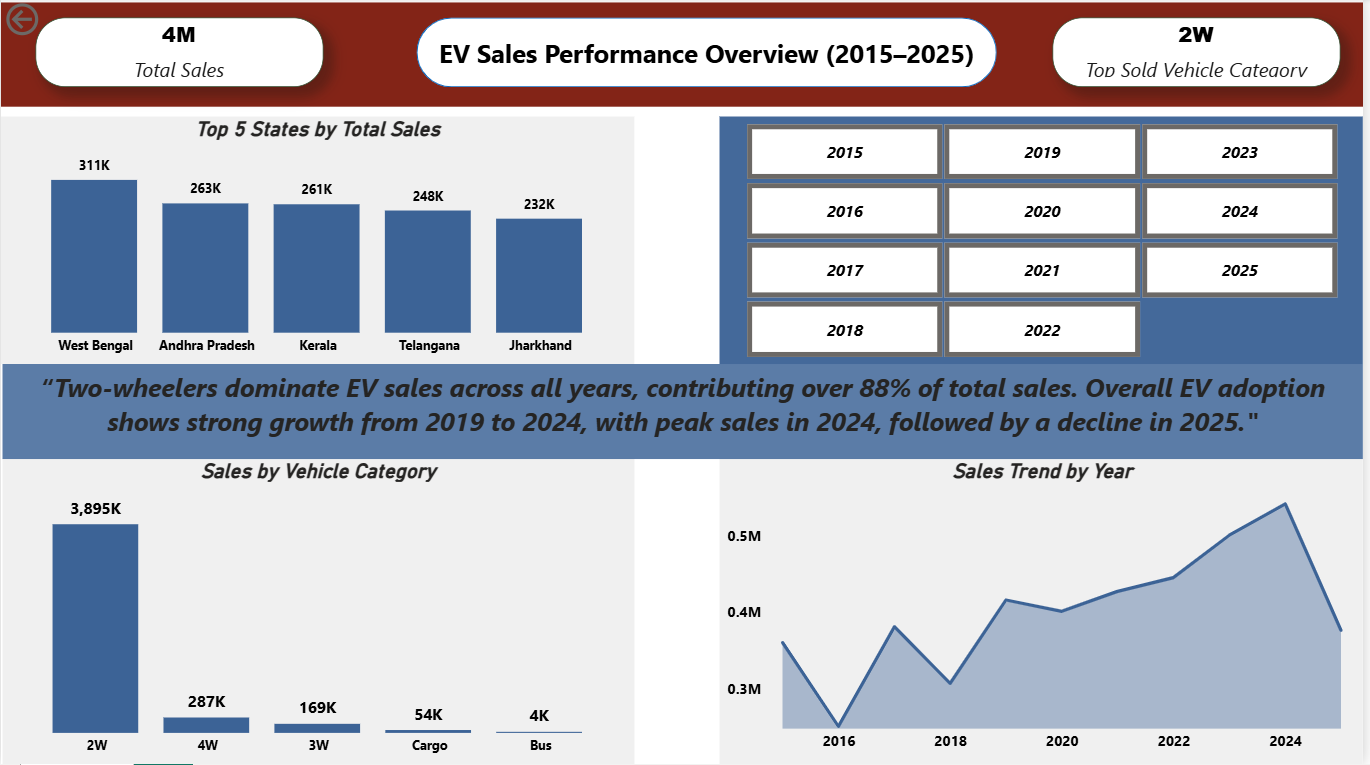

The dashboard page shown, as its layout file describes it:
{"tool":"powerbi","page":{"name":"Page 1","canvas":[1280,720],"ordinal":0},"visuals":[{"type":"actionButton","box":[0,0,100,40],"z":0},{"type":"card","fields":{"Values":["Sheet1.Total Sales"]},"box":[32.8,18.8,270.4,65.6],"z":1000},{"type":"shape","box":[390.7,18.8,545.5,65.6],"z":2000},{"type":"columnChart","title":"Sales by Vehicle Category","fields":{"Y":["Sheet1.Total Sales"],"Category":["Sheet1.vehicle_category"]},"box":[1.6,432.9,593.9,287.6],"z":3000},{"type":"card","fields":{"Values":["ev_sales_data.Top Sold Vehicle Category"]},"box":[987.8,18.8,270.4,65.6],"z":4000},{"type":"lineChart","title":"Sales Trend by Year","fields":{"Category":["ev_sales_data.year"],"Y":["ev_sales_data.Total Sales"]},"box":[675.2,432.9,604.9,287.6],"z":5000},{"type":"columnChart","title":"Top 5 States by Total Sales","fields":{"Category":["ev_sales_data.state"],"Y":["ev_sales_data.Total Sales"]},"box":[0,111,595.5,232.9],"z":5001},{"type":"slicer","fields":{"Values":["ev_sales_data.year"]},"box":[675.2,111,604.9,232.9],"z":5002},{"type":"textbox","box":[1.6,343.9,1278.5,89.1],"z":5003}]}

Visuals, with their boxes in screenshot pixels (x1, y1, x2, y2), scaled from the page's 1280x720 canvas onto the 1370x765 screenshot:
actionButton: bbox=(0, 0, 107, 42)
card - Sheet1.Total Sales: bbox=(35, 20, 325, 90)
shape: bbox=(418, 20, 1002, 90)
"Sales by Vehicle Category" columnChart: bbox=(2, 460, 637, 764)
card - ev_sales_data.Top Sold Vehicle Category: bbox=(1057, 20, 1347, 90)
"Sales Trend by Year" lineChart: bbox=(723, 460, 1369, 764)
"Top 5 States by Total Sales" columnChart: bbox=(0, 118, 637, 365)
slicer - ev_sales_data.year: bbox=(723, 118, 1369, 365)
textbox: bbox=(2, 365, 1369, 460)
